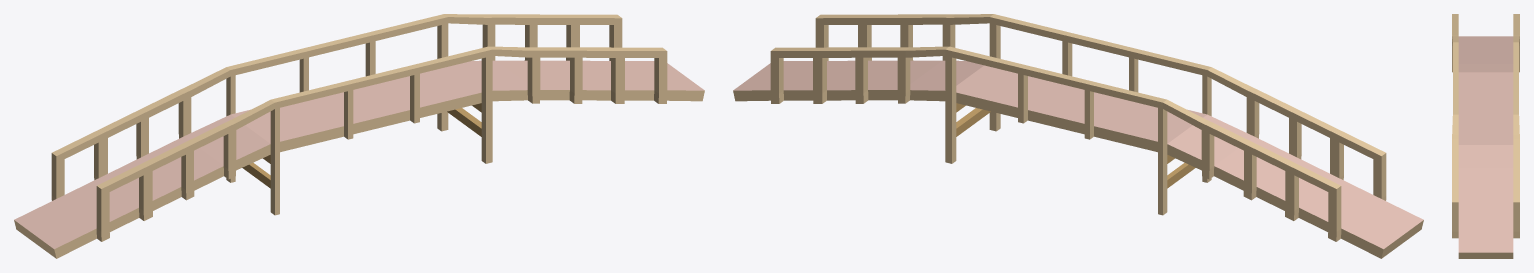
File: Park Bridge.fbx
3 renders of one model, left to right at view 1: azimuth 30°, elevation 25°; view 2: azimuth 150°, elevation 25°; view 3: azimuth 270°, elevation 25°, orthographic. The views are drawn at different scales.
Visible parts, largest first — view 1: pCube1; view 2: pCube1; view 3: pCube1.
Part boxes in pixels (x1,y1,x2,y2): pCube1: [14, 14, 704, 258]; pCube1: [733, 14, 1423, 258]; pCube1: [1452, 14, 1519, 258].
Bounding box in the file's own units: 40.87 × 6.77 × 5.4.
